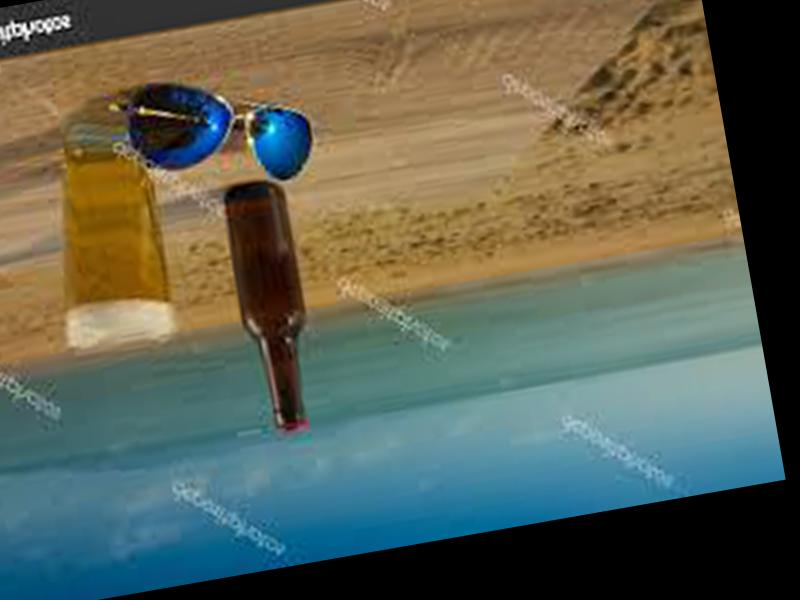Beer: (220, 179, 326, 437)
